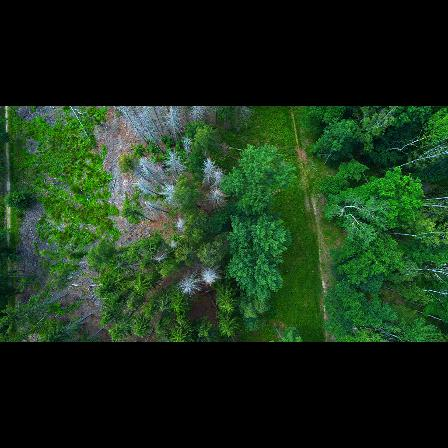Dead: (121, 111, 150, 144), (178, 272, 202, 301), (133, 180, 163, 196), (163, 152, 182, 175), (200, 268, 220, 288), (200, 157, 214, 185), (206, 189, 223, 211), (143, 202, 171, 215), (172, 110, 183, 143), (148, 119, 164, 141), (133, 111, 149, 133), (141, 158, 158, 178), (152, 109, 168, 130), (212, 167, 223, 190), (166, 235, 181, 249), (173, 217, 186, 231), (189, 108, 200, 123), (154, 253, 167, 263)
